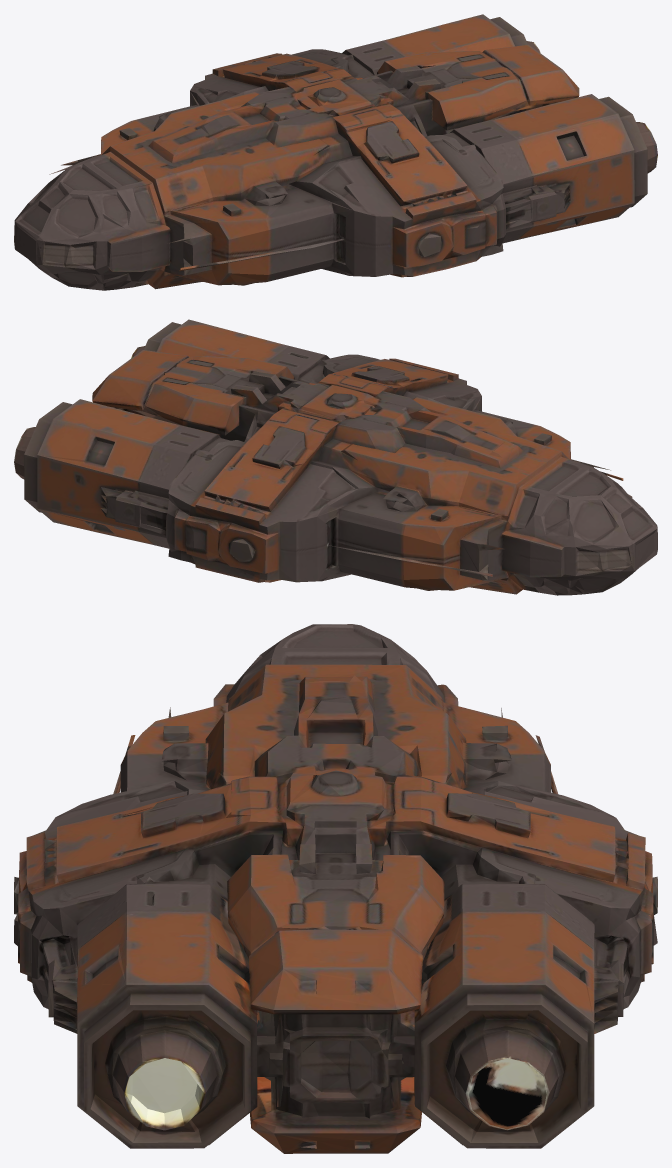
File: NaveSpacial.fbx
3 views of the same model, one above another, from view 1: azimuth 30°, elevation 25°; view 2: azimuth 150°, elevation 25°; view 3: azimuth 270°, elevation 25° (orthographic). The views are drawn at different scales.
Parts seen in each view (by area): view 1: tripo_node_477669ad; view 2: tripo_node_477669ad; view 3: tripo_node_477669ad.
Part boxes in pixels (bbox=[...]): tripo_node_477669ad: bbox=[14, 14, 657, 290]; tripo_node_477669ad: bbox=[14, 319, 657, 595]; tripo_node_477669ad: bbox=[14, 624, 657, 1153].
Bounding box in the file's own units: 0.6405 × 1 × 0.2635.
Materials: 1 (1 with a texture image).
